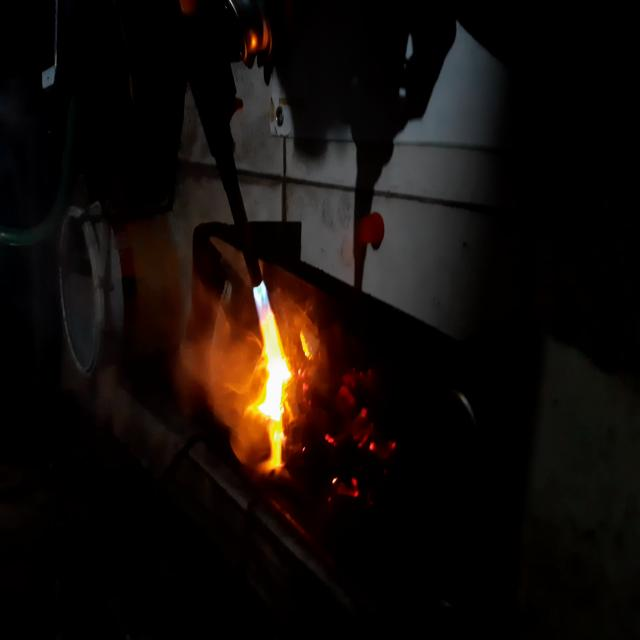Fire: (324, 347, 402, 543), (248, 274, 318, 477), (170, 287, 248, 456)
